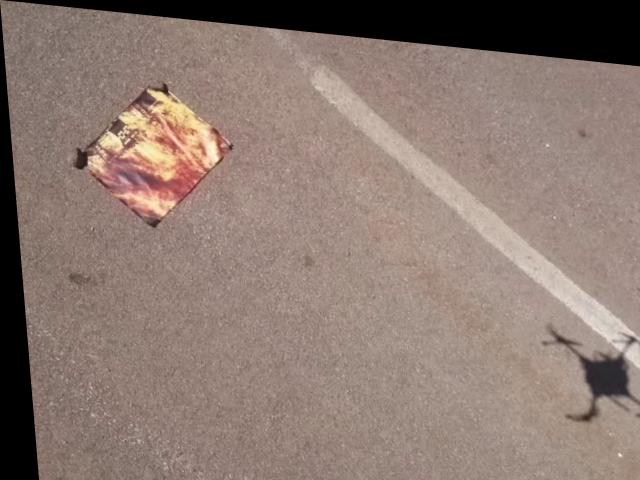fire-poster: (68, 68, 238, 234)
